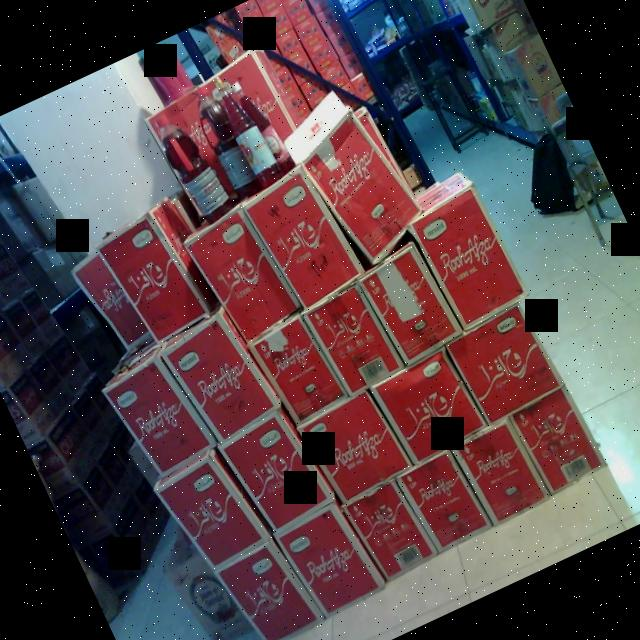box: (294, 112, 430, 270), (406, 183, 529, 332), (242, 170, 366, 310), (185, 205, 308, 346), (157, 312, 282, 448), (442, 298, 566, 428), (94, 215, 214, 348), (368, 344, 494, 469), (215, 407, 335, 537), (99, 352, 218, 483), (152, 452, 272, 580), (298, 275, 411, 402), (296, 384, 414, 504), (273, 498, 385, 622), (248, 311, 354, 431), (358, 246, 464, 365), (212, 533, 325, 640), (448, 414, 554, 528), (338, 467, 440, 585), (509, 387, 607, 498), (396, 446, 494, 556)
